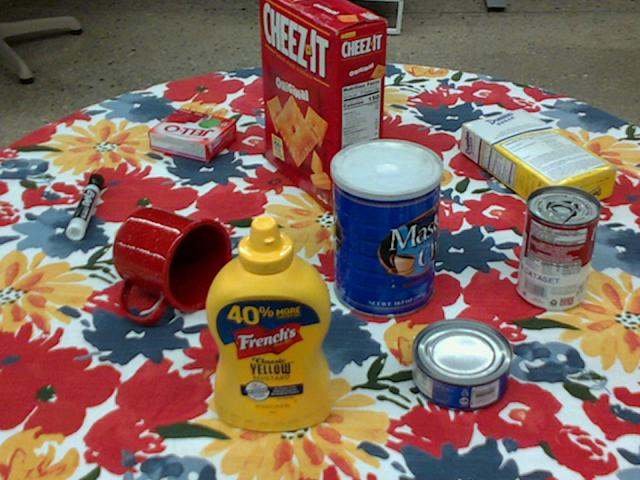cracker_box: (260, 0, 386, 211)
gelatin_box: (147, 108, 236, 162)
large_marker: (65, 172, 102, 239)
master_chef_can: (329, 139, 442, 320)
mug: (110, 207, 231, 322)
mustard_bottle: (204, 215, 330, 431)
potted_meat_can: (303, 44, 381, 117)
sugar_box: (461, 106, 616, 218)
tomato_soup_can: (517, 185, 599, 311)
tuna_fish_can: (409, 319, 510, 412)
